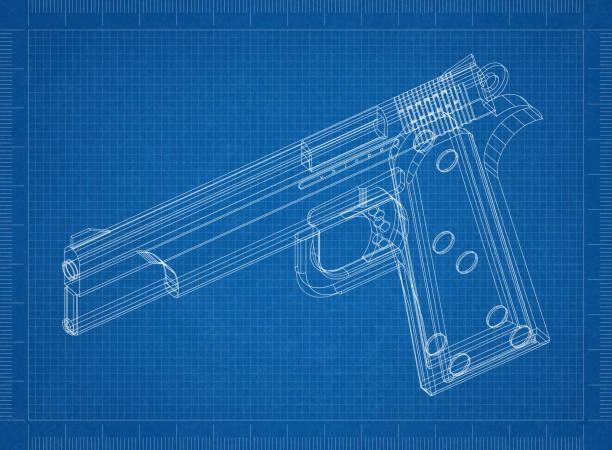weapon: (59, 50, 553, 398)
